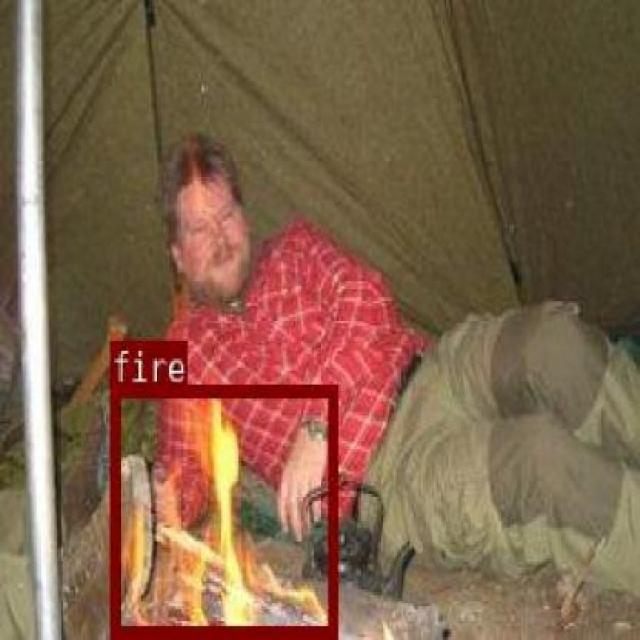Fire: (130, 382, 334, 623)
